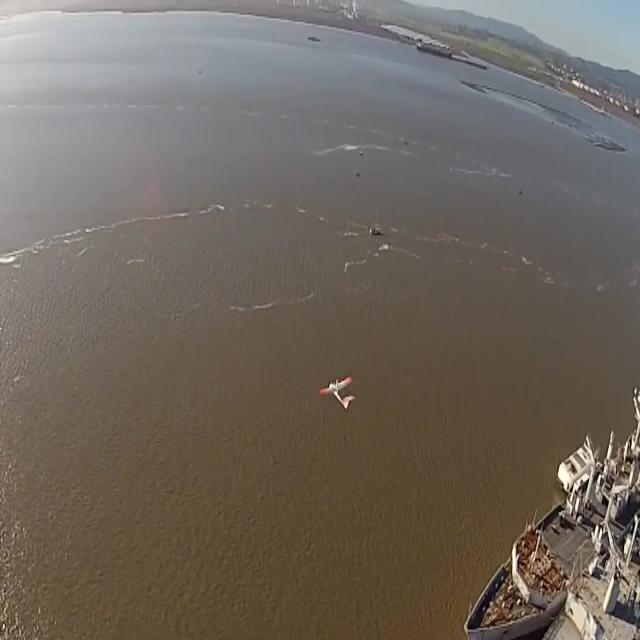iha: (320, 367, 356, 405)
